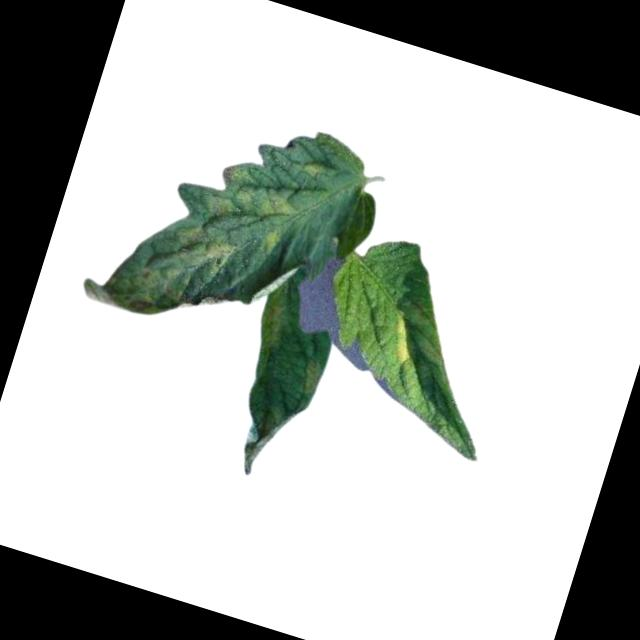Leaf_Mold: (80, 198, 240, 339), (198, 154, 303, 237), (382, 313, 421, 368), (253, 224, 284, 261), (298, 358, 327, 394), (298, 158, 325, 184)
